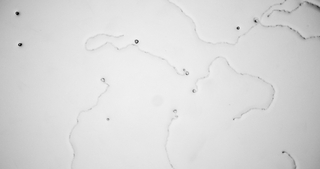germinated: (99, 77, 108, 85), (171, 109, 178, 116), (191, 86, 198, 93), (181, 71, 190, 76)
nongerminated: (16, 40, 23, 47), (13, 9, 20, 16), (134, 37, 140, 45), (235, 24, 241, 30)
